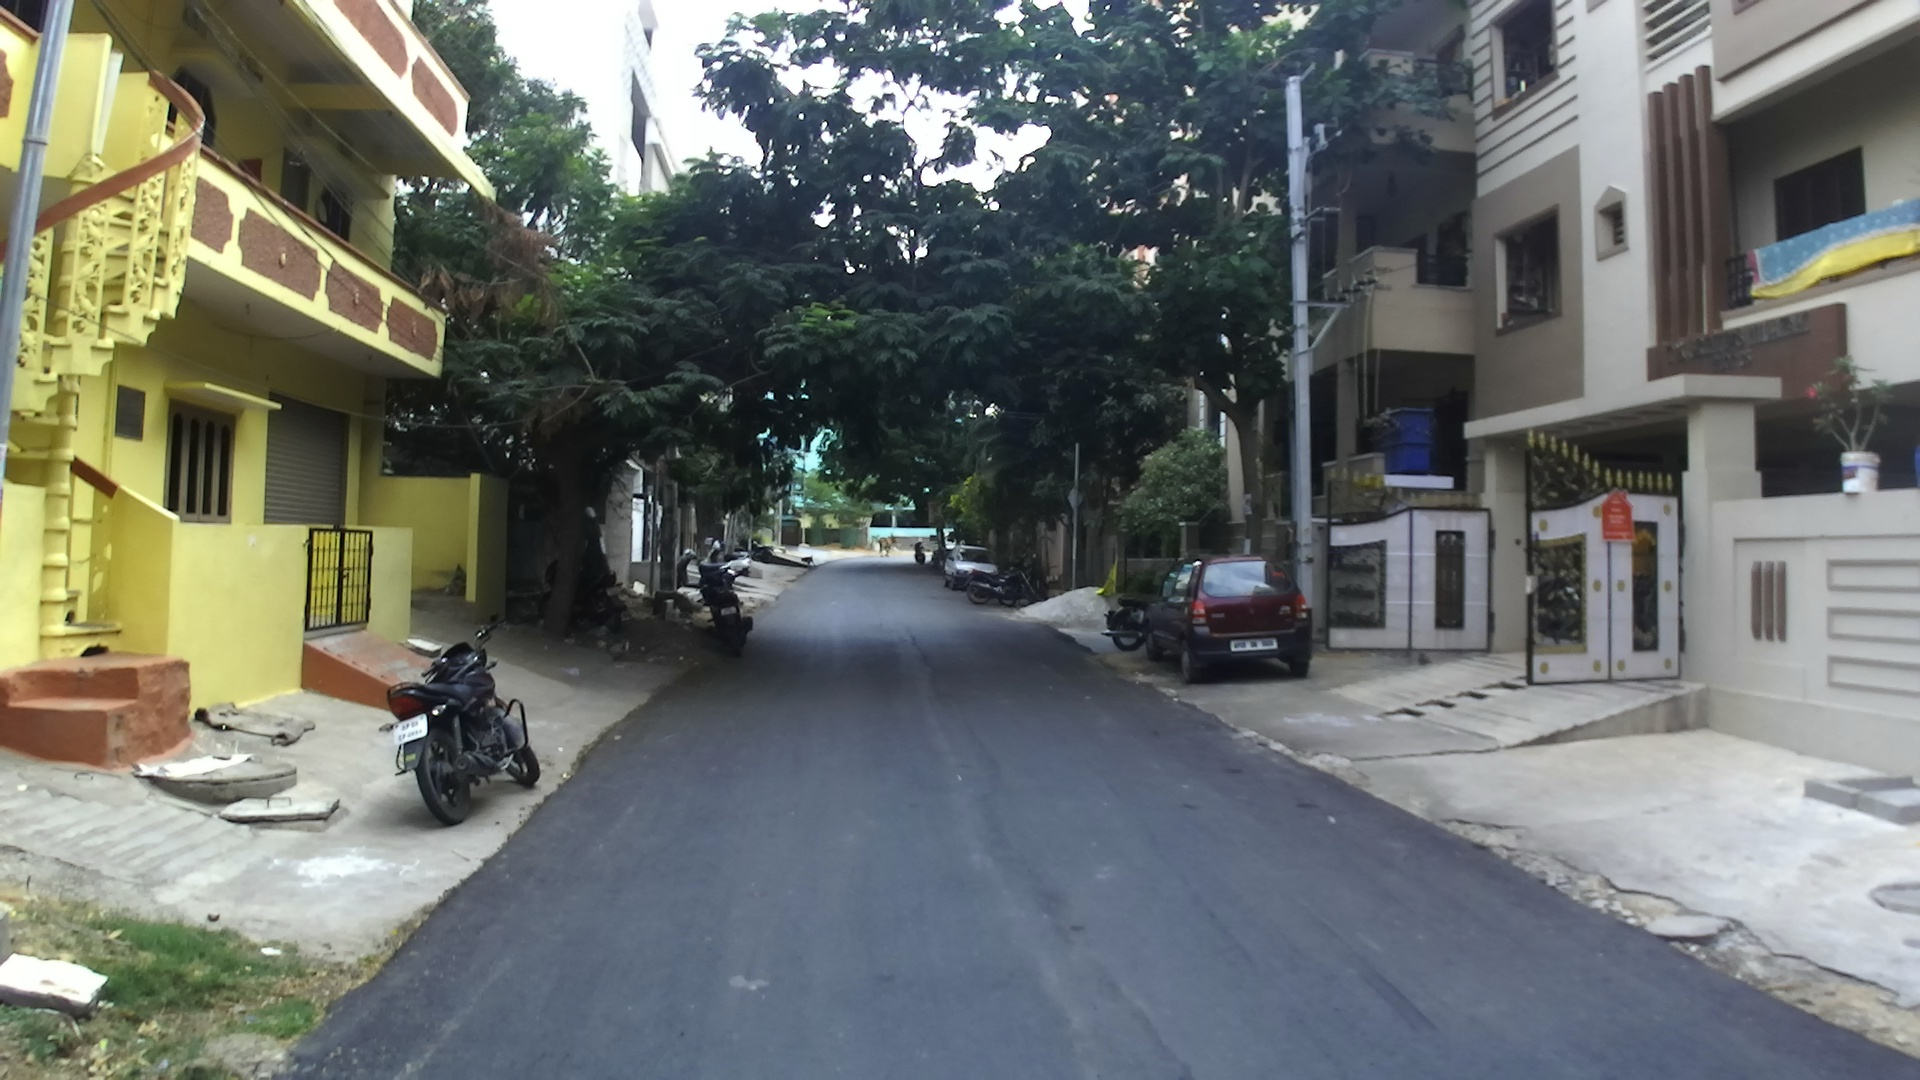vehicle: (385, 626, 541, 825), (1137, 555, 1312, 682), (700, 560, 758, 655), (939, 549, 1006, 597)
